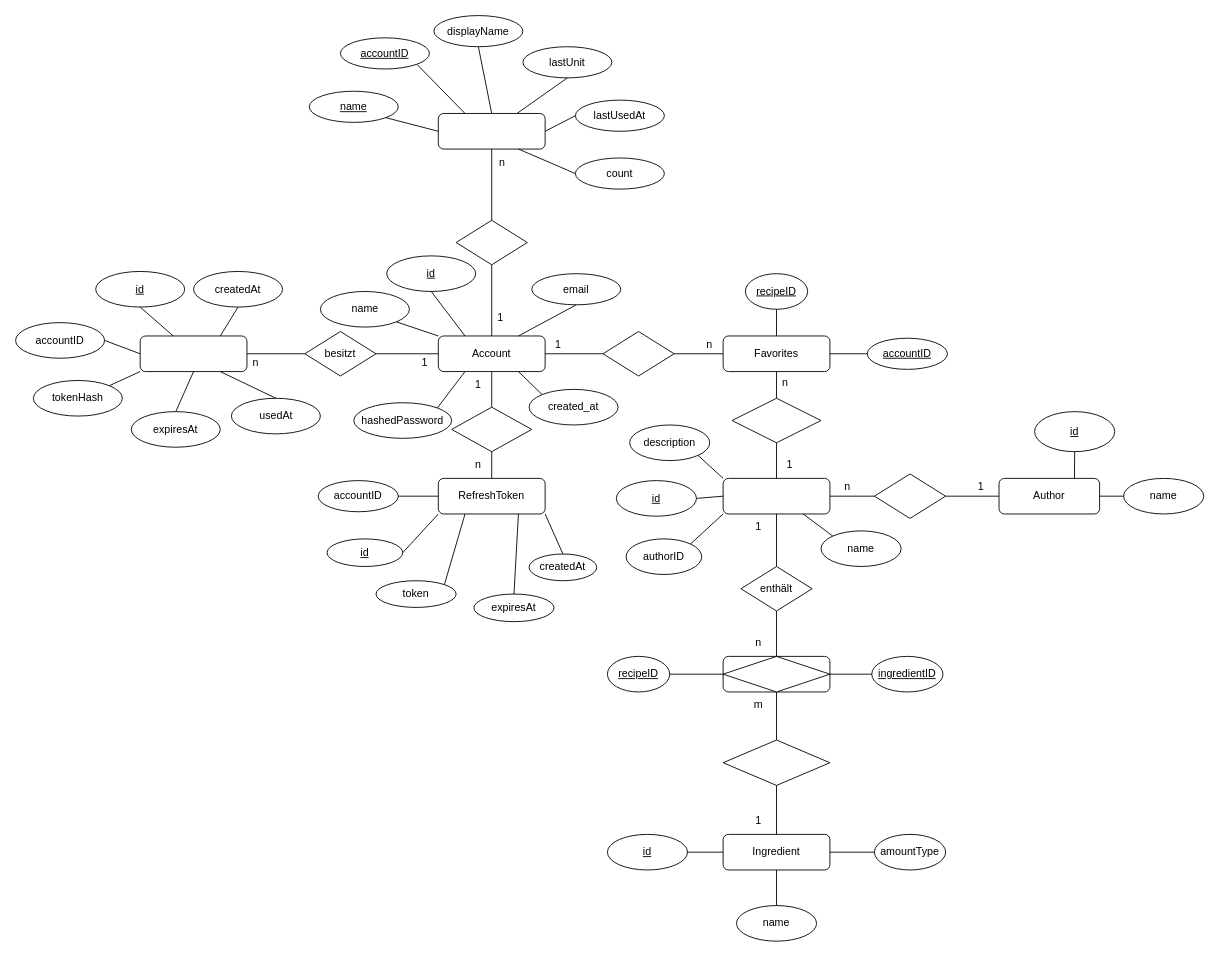
Image size: 1219x957. Some labels were removed from this diagram. Here are the shapes that lost their labels. From the top down, the centre of each, then its label:
(491,131): IngredientUsage
(491,242): filtert nach
(193,353): PasswordResetToken
(638,353): merkt
(491,429): hat
(776,420): wird favorisiert
(776,495): Recipe
(910,495): erstellt
(776,673): Exists_from
(776,762): wird verwendet in
